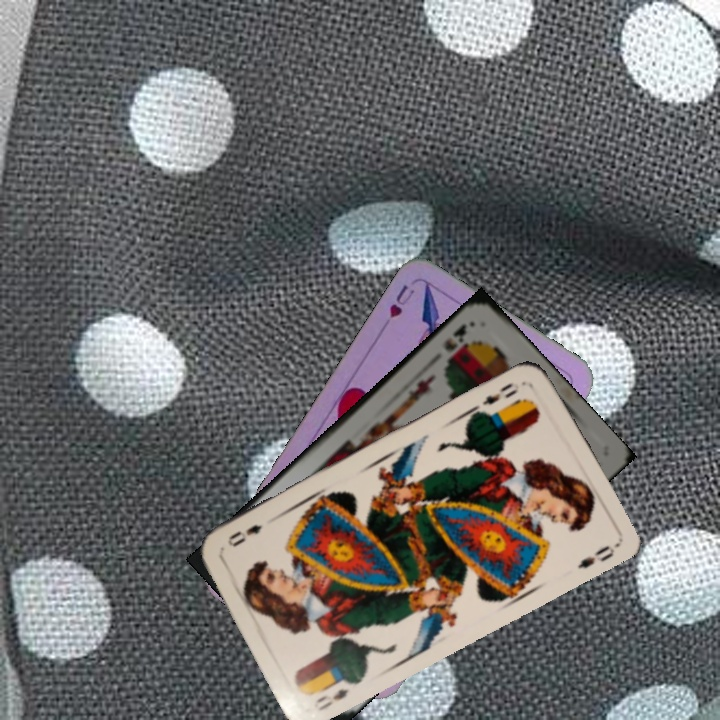EO: (478, 378, 522, 408), (311, 684, 351, 714)
HU: (385, 280, 418, 321)
SK: (439, 319, 470, 354)
